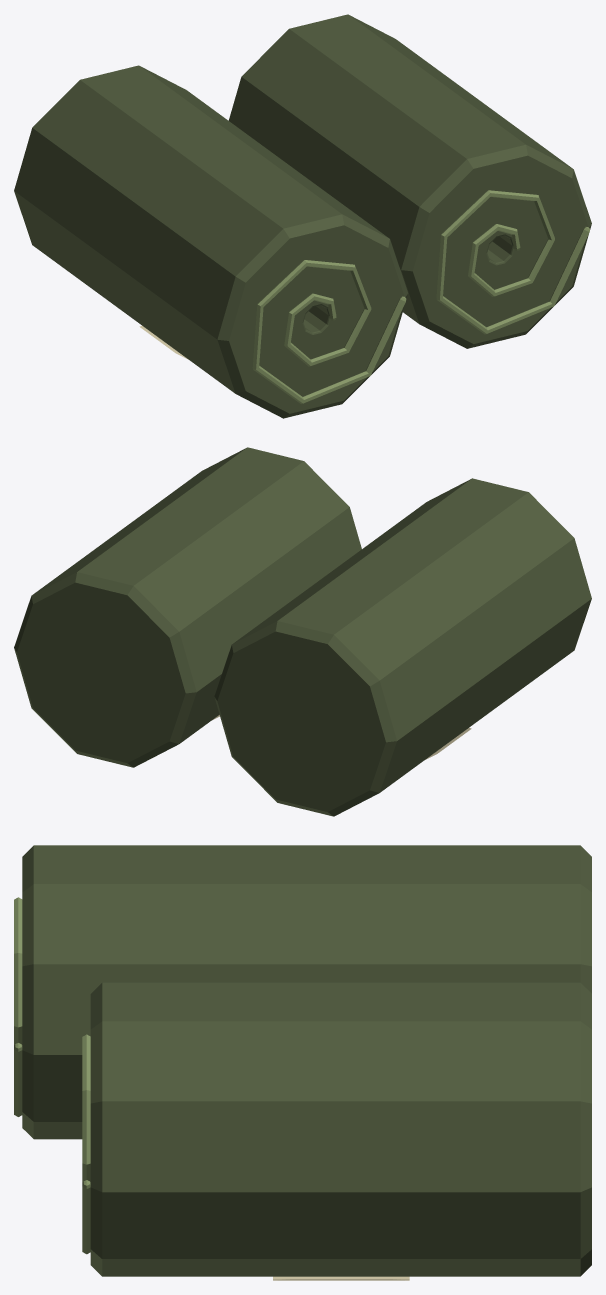
File: trash_bags.glb
The picture shows the model from 3 angles, top to bottom: view 1: azimuth 30°, elevation 25°; view 2: azimuth 150°, elevation 25°; view 3: azimuth 270°, elevation 25°; orthographic projection. The views are drawn at different scales.
Visible parts, largest first — view 1: trash_bags; view 2: trash_bags; view 3: trash_bags.
Part boxes in pixels (left/top/right/bottom): trash_bags: left=14, top=14, right=591, bottom=418; trash_bags: left=14, top=447, right=591, bottom=816; trash_bags: left=14, top=845, right=591, bottom=1280.
Bounding box in the file's own units: 0.109 × 0.0512 × 0.1015.
